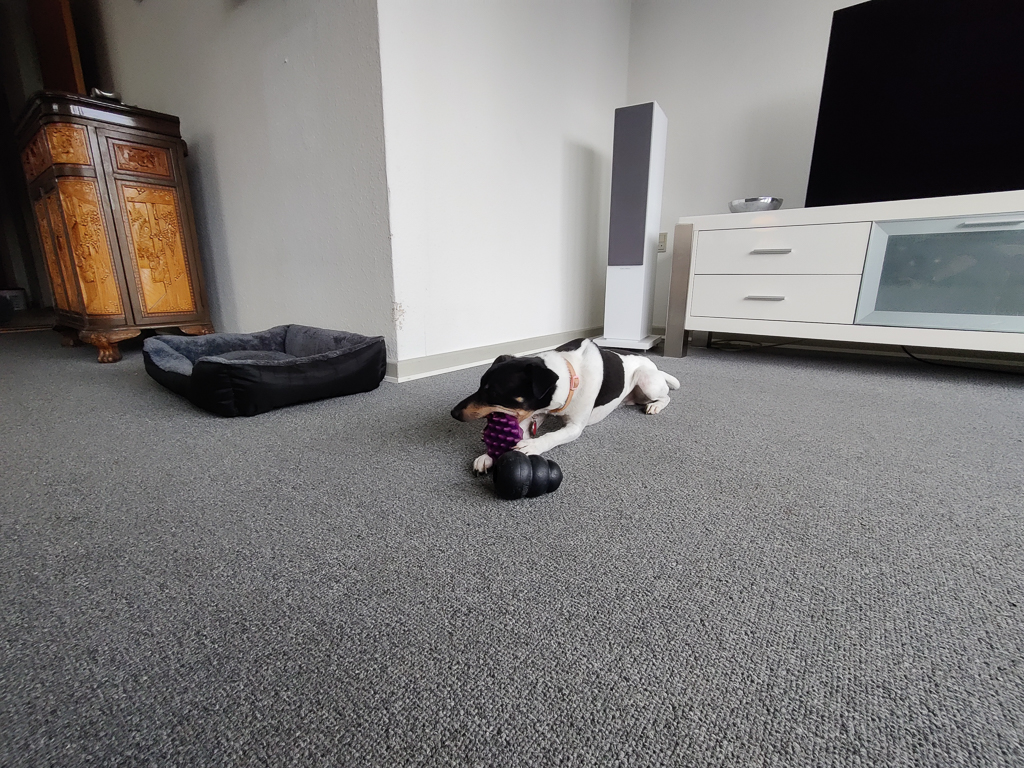Dog: (440, 329, 688, 486)
